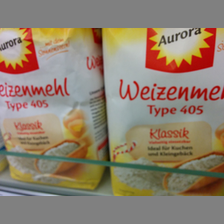flour: (102, 29, 223, 196), (1, 28, 106, 191)
